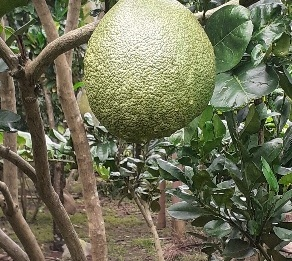Buoi: (86, 1, 217, 147)
